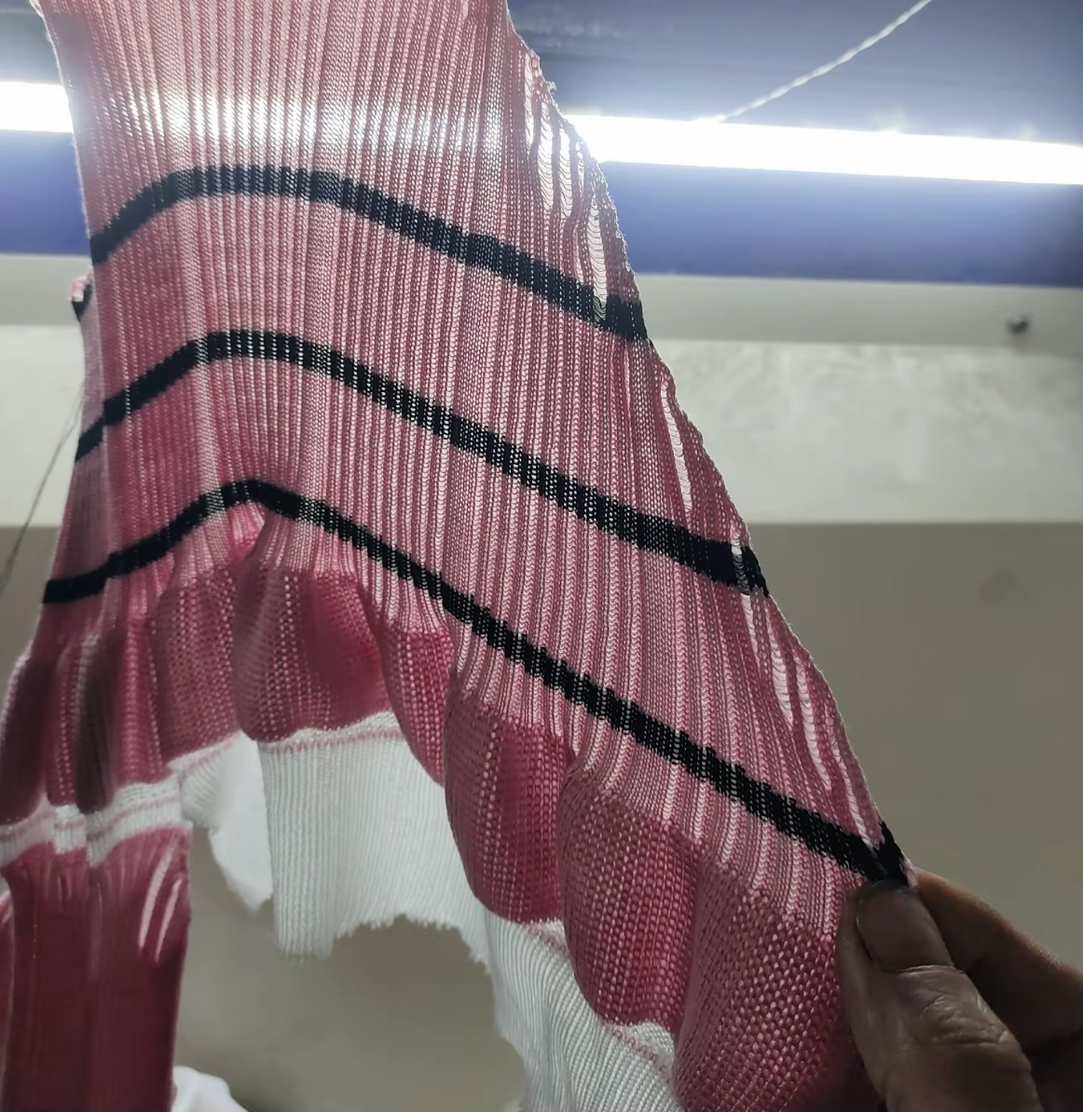missing_stitch_2: (655, 378, 705, 531), (776, 630, 822, 744), (730, 539, 771, 664), (508, 51, 543, 185), (543, 128, 583, 225), (586, 188, 612, 298)
